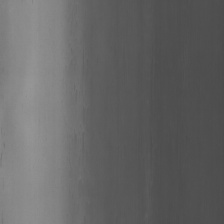silk_spot: (61, 35, 95, 204)
